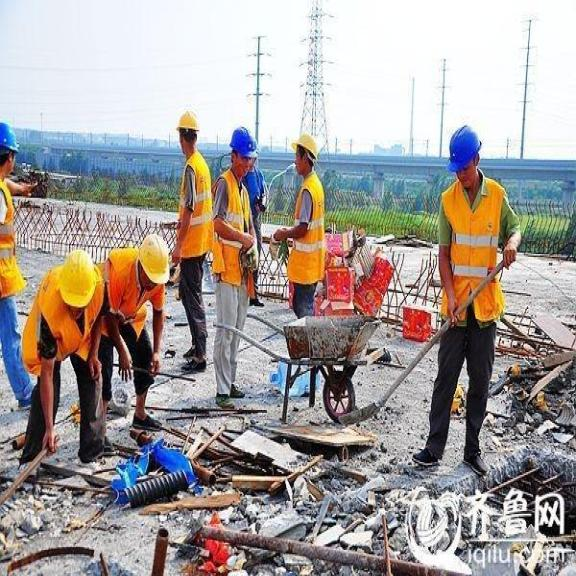safety_vest: (446, 189, 504, 323), (218, 173, 253, 292), (176, 152, 212, 257), (293, 179, 325, 287), (0, 183, 22, 299)
